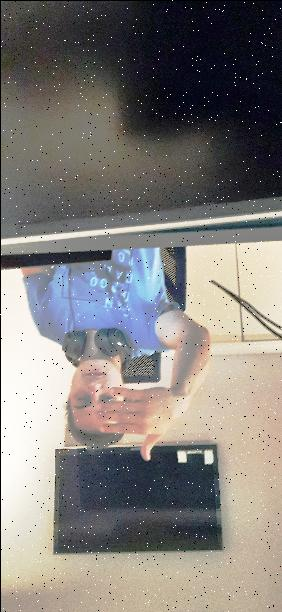Paper: (93, 378, 186, 464)
